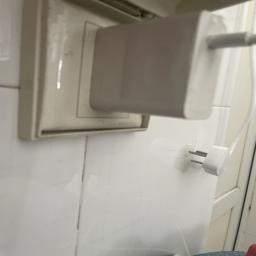outlet: (18, 0, 157, 142)
